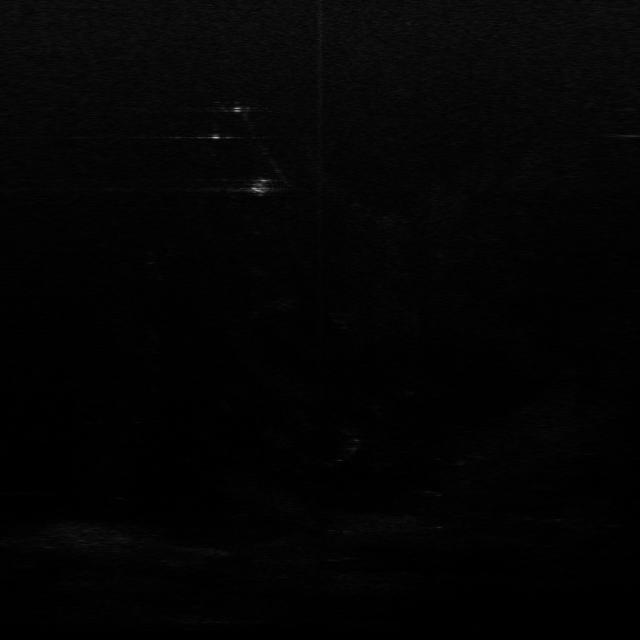rov: (246, 176, 273, 197)
